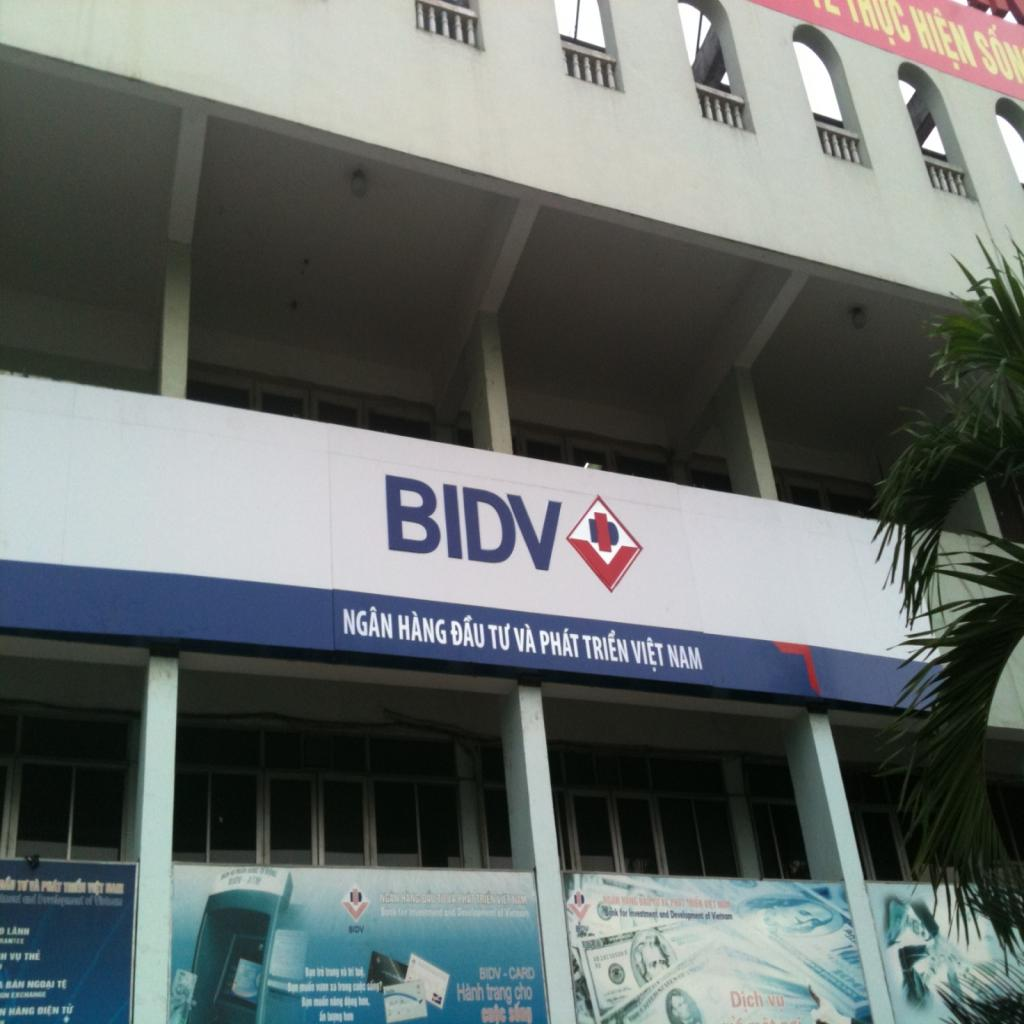text: (385, 470, 563, 576), (908, 0, 981, 80), (343, 602, 395, 644), (398, 610, 447, 649), (584, 628, 630, 667), (629, 633, 670, 673), (448, 614, 487, 651), (540, 626, 580, 662), (667, 645, 704, 677), (514, 619, 539, 661), (729, 989, 767, 1016), (488, 618, 514, 657), (37, 894, 85, 910), (457, 980, 486, 1004), (830, 943, 862, 964), (508, 998, 533, 1024), (457, 906, 497, 922), (486, 983, 512, 1004), (482, 1004, 508, 1024), (765, 992, 788, 1014), (408, 905, 444, 919), (7, 1003, 36, 1019), (63, 878, 88, 896), (514, 982, 534, 1004), (475, 888, 497, 907), (628, 907, 660, 920), (671, 910, 705, 922), (400, 888, 422, 906), (508, 967, 536, 981), (504, 905, 530, 920), (92, 897, 124, 909), (377, 890, 401, 906), (42, 878, 64, 895), (8, 991, 49, 1000), (87, 880, 106, 898), (28, 978, 56, 990), (37, 1004, 61, 1018), (478, 967, 502, 981), (0, 874, 17, 893), (4, 977, 27, 991), (105, 882, 125, 898), (456, 890, 476, 906), (365, 978, 384, 994), (620, 891, 640, 906), (602, 892, 622, 906), (7, 924, 30, 936), (421, 888, 438, 904), (24, 948, 42, 963), (496, 890, 511, 908), (687, 896, 705, 911), (670, 896, 687, 911), (298, 980, 316, 994), (312, 995, 330, 1009), (337, 982, 353, 997), (353, 980, 368, 996), (304, 965, 317, 983), (347, 922, 366, 934), (300, 995, 314, 1011), (327, 1010, 343, 1024), (711, 912, 733, 922), (29, 876, 41, 894), (380, 906, 398, 918), (330, 995, 345, 1009), (0, 937, 26, 945), (325, 966, 341, 979), (353, 964, 366, 980), (316, 980, 330, 994), (637, 894, 653, 906), (17, 879, 30, 893), (9, 952, 23, 965), (61, 1003, 75, 1016), (444, 905, 457, 919), (344, 996, 358, 1009), (23, 894, 38, 906), (288, 982, 300, 997), (717, 900, 732, 912), (447, 890, 458, 906), (604, 907, 620, 918), (436, 892, 448, 906), (358, 996, 372, 1008), (703, 898, 717, 910), (342, 1010, 354, 1024), (513, 895, 528, 906), (347, 962, 356, 980), (316, 963, 326, 979), (56, 979, 68, 992), (660, 895, 671, 909), (339, 965, 349, 979), (652, 895, 662, 908), (497, 905, 505, 920), (319, 1010, 328, 1023), (660, 910, 671, 920), (620, 907, 629, 918), (0, 1007, 8, 1019), (330, 982, 338, 994), (704, 910, 712, 922), (86, 895, 93, 908), (399, 906, 408, 916), (0, 926, 8, 937), (0, 953, 8, 962)
